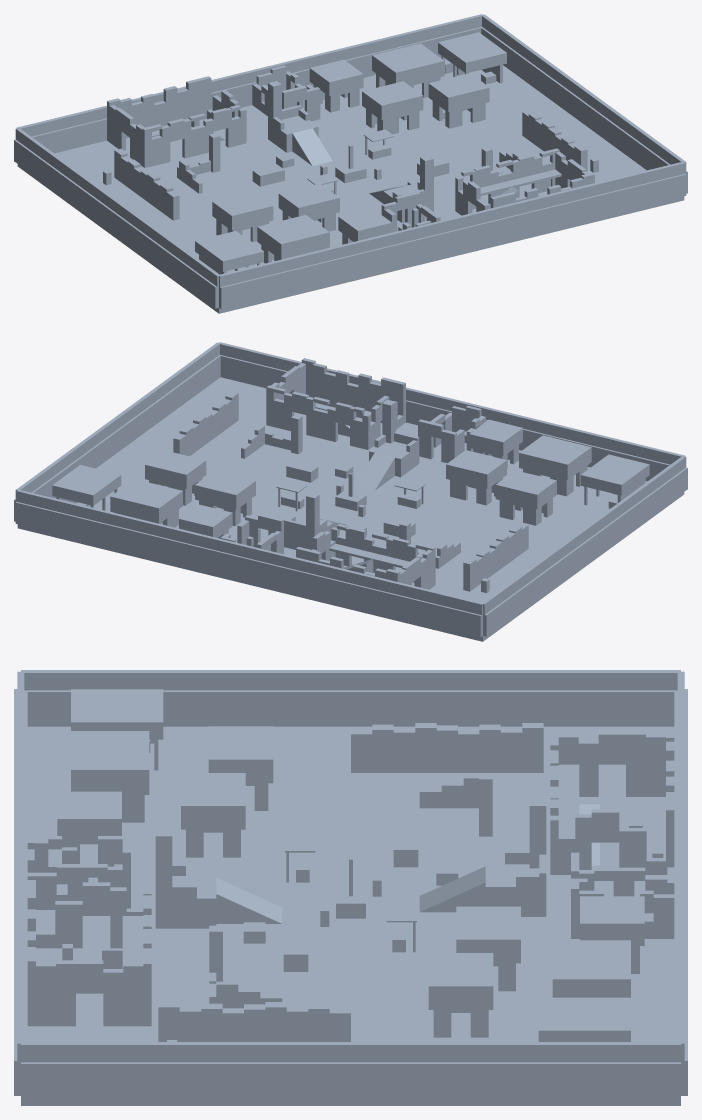
Rendered from camlann_collision.glb.
3 renders of one model, top to bottom at view 1: azimuth 30°, elevation 25°; view 2: azimuth 150°, elevation 25°; view 3: azimuth 270°, elevation 25°, orthographic. The views are drawn at different scales.
Parts seen in each view (by area): view 1: COL_battlefield_floor, COL_earthbank_z_24, COL_crest_palisade_z_24, COL_earthbank_x_-32, COL_crest_palisade_z_-24, COL_earthbank_x_32, COL_earthbank_z_-24, COL_crest_palisade_x_-32, COL_crest_palisade_x_32, COL_c3_roof_w, COL_c3_roof_e, COL_barn_roof_e (+17 smaller); view 2: COL_battlefield_floor, COL_earthbank_z_-24, COL_crest_palisade_z_-24, COL_earthbank_x_-32, COL_crest_palisade_z_24, COL_earthbank_x_32, COL_earthbank_z_24, COL_crest_palisade_x_-32, COL_crest_palisade_x_32, COL_c3_roof_e, COL_c3_roof_w, COL_barn_roof_w (+17 smaller); view 3: COL_battlefield_floor, COL_earthbank_x_32, COL_earthbank_x_-32, COL_crest_palisade_x_32, COL_crest_palisade_x_-32, COL_c3_roof_w, COL_c3_roof_e, COL_barn_roof_e, COL_barn_roof_w, COL_c1_roof_e, COL_c2_roof_w, COL_c1_roof_w (+60 smaller).
Part boxes in pixels (box(x1,y1,x2,y2)): COL_battlefield_floor: box(17, 58, 684, 313); COL_earthbank_z_24: box(219, 173, 686, 309); COL_crest_palisade_z_24: box(218, 162, 685, 287); COL_earthbank_x_-32: box(14, 139, 218, 308); COL_crest_palisade_z_-24: box(16, 14, 482, 136); COL_earthbank_x_32: box(480, 27, 687, 193); COL_earthbank_z_-24: box(32, 27, 481, 153); COL_crest_palisade_x_-32: box(15, 128, 219, 286); COL_crest_palisade_x_32: box(481, 14, 686, 172); COL_c3_roof_w: box(257, 215, 329, 259); COL_c3_roof_e: box(372, 43, 444, 84); COL_barn_roof_e: box(438, 32, 506, 73); COL_battlefield_floor: box(17, 377, 684, 641); COL_earthbank_z_-24: box(15, 501, 482, 637); COL_crest_palisade_z_-24: box(16, 490, 483, 615); COL_earthbank_x_-32: box(483, 467, 687, 636); COL_crest_palisade_z_24: box(219, 342, 685, 464); COL_earthbank_x_32: box(14, 355, 221, 521); COL_earthbank_z_24: box(220, 355, 669, 481); COL_crest_palisade_x_-32: box(482, 456, 686, 614); COL_crest_palisade_x_32: box(15, 342, 220, 500); COL_c3_roof_e: box(110, 479, 182, 523); COL_c3_roof_w: box(519, 435, 591, 479); COL_barn_roof_w: box(580, 454, 649, 495); COL_battlefield_floor: box(21, 726, 680, 1105); COL_earthbank_x_32: box(21, 1062, 680, 1098); COL_earthbank_x_-32: box(24, 690, 677, 726); COL_crest_palisade_x_32: box(21, 1042, 680, 1062); COL_crest_palisade_x_-32: box(21, 670, 680, 690); COL_c3_roof_w: box(71, 731, 149, 794); COL_c3_roof_e: box(552, 940, 630, 997); COL_barn_roof_e: box(538, 997, 630, 1041); COL_barn_roof_w: box(71, 689, 163, 739); COL_c1_roof_e: box(428, 953, 493, 1009); COL_c2_roof_w: box(181, 773, 245, 829); COL_c1_roof_w: box(208, 726, 273, 783).
Size of the model in its own units: 65 by 8.2 by 49.
